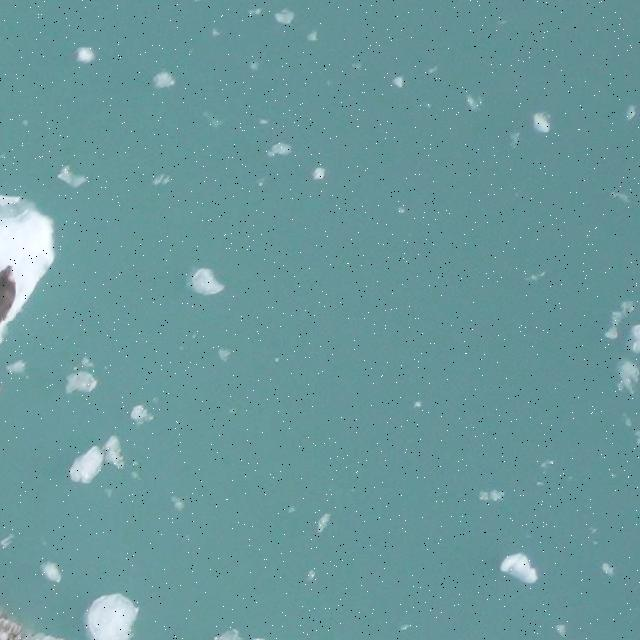seal: (1, 265, 16, 321)
